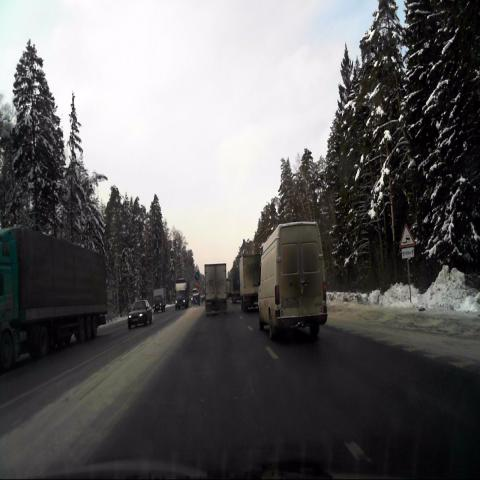1_19: (400, 223, 414, 247)
